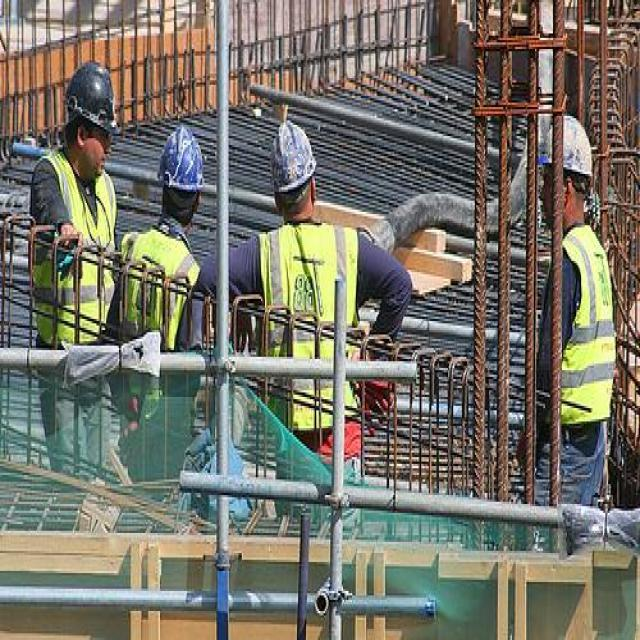reflective_jacket: (242, 214, 380, 450), (19, 149, 125, 405), (113, 218, 214, 432), (545, 222, 623, 439)
safety_helmet: (52, 49, 125, 147), (259, 109, 326, 207), (150, 114, 214, 212), (531, 107, 599, 194)
